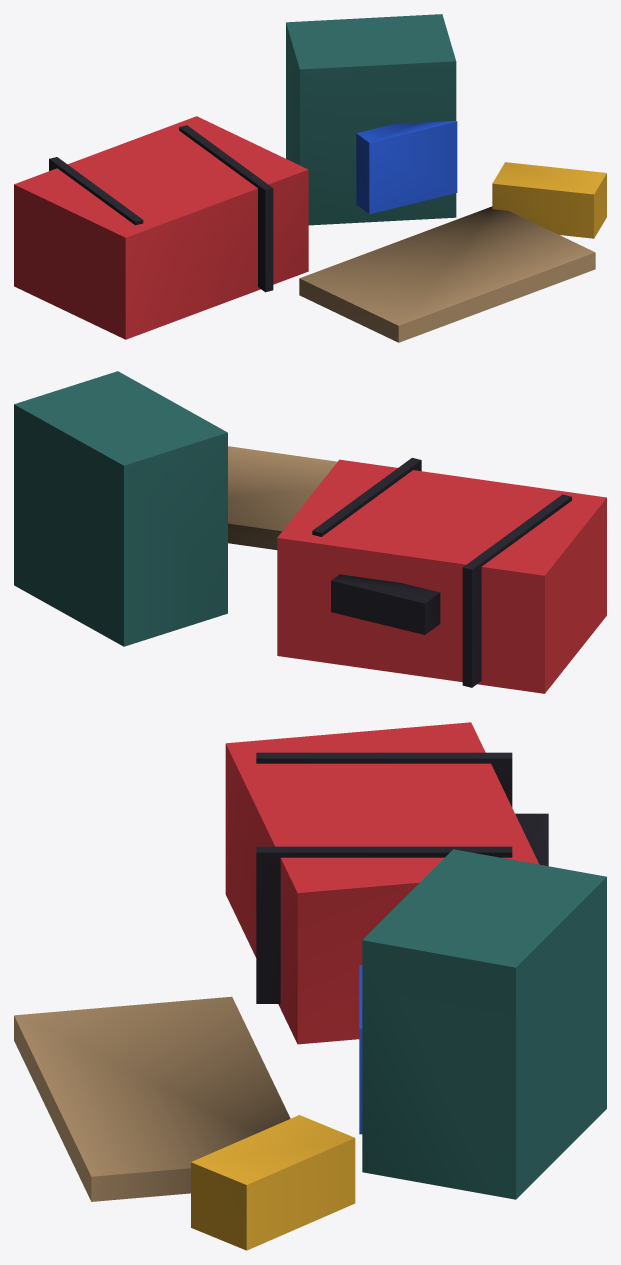
Rendered from decay.dropped-belongings.lod1.glb.
3 views of the same model, one above another, from view 1: azimuth 30°, elevation 25°; view 2: azimuth 150°, elevation 25°; view 3: azimuth 270°, elevation 25° (orthographic). The views are drawn at different scales.
Parts seen in each view (by area): view 1: body; view 2: body; view 3: body.
Boxes of the visible parts, x1,y1,x2,y2 form: body: [14, 14, 606, 342]; body: [14, 371, 606, 693]; body: [14, 722, 606, 1250].
Size of the model in its own units: 1.59 by 0.46 by 1.07.
